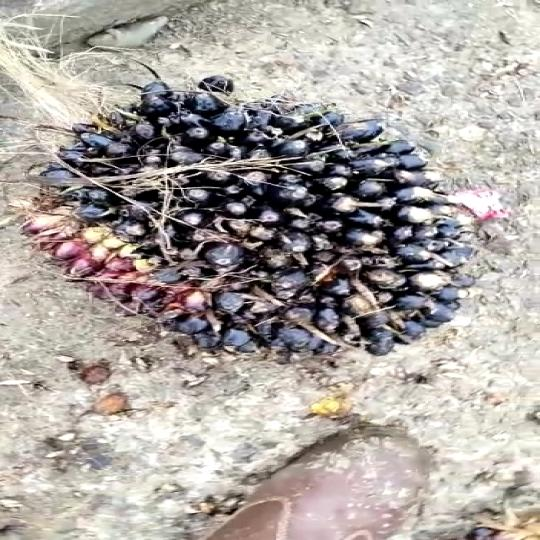mentah: (26, 76, 476, 364)
